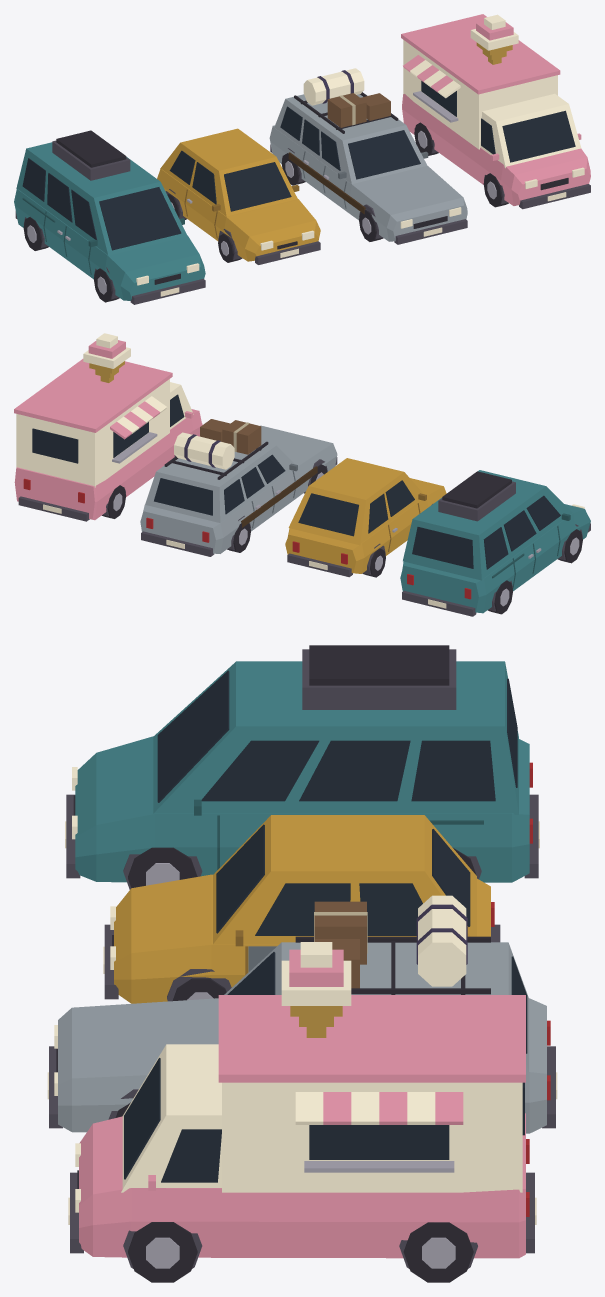
The model's file is street_cars.glb.
The picture shows the model from 3 angles, top to bottom: view 1: azimuth 30°, elevation 25°; view 2: azimuth 150°, elevation 25°; view 3: azimuth 270°, elevation 25°; orthographic projection. The views are drawn at different scales.
Parts seen in each view (by area): view 1: IceCreamVan, Minivan, Estate, Hatchback; view 2: IceCreamVan, Minivan, Estate, Hatchback; view 3: IceCreamVan, Minivan, Hatchback, Estate.
Part boxes in pixels (x1=…): IceCreamVan: x1=401, y1=14, x2=590, y2=209; Minivan: x1=14, y1=130, x2=205, y2=304; Estate: x1=269, y1=68, x2=467, y2=244; Hatchback: x1=157, y1=128, x2=320, y2=264; IceCreamVan: x1=14, y1=333, x2=202, y2=521; Minivan: x1=400, y1=470, x2=590, y2=616; Estate: x1=140, y1=419, x2=337, y2=556; Hatchback: x1=285, y1=458, x2=446, y2=577; IceCreamVan: x1=68, y1=942, x2=536, y2=1282; Minivan: x1=65, y1=645, x2=539, y2=889; Hatchback: x1=103, y1=815, x2=500, y2=1003; Estate: x1=47, y1=895, x2=557, y2=1133.
Size of the model in its own units: 32.23 by 9.31 by 14.6.
1 material, 1 textured.
